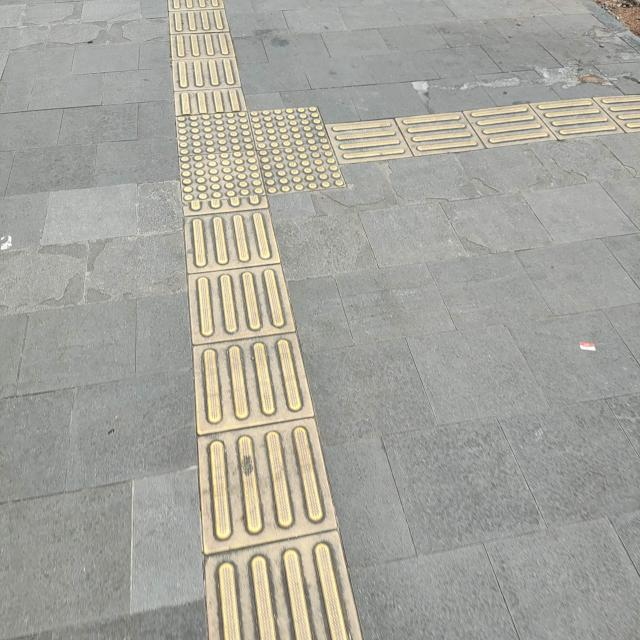lurus: (182, 207, 348, 640), (160, 0, 240, 108)
